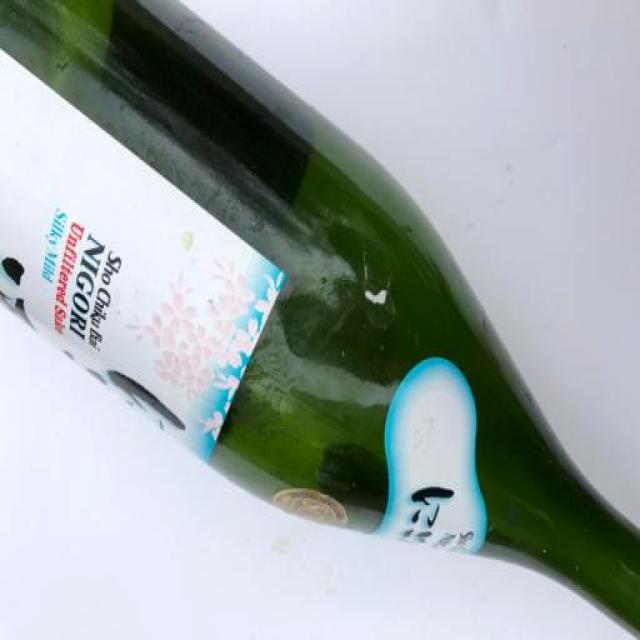Glass: (0, 0, 639, 640)
